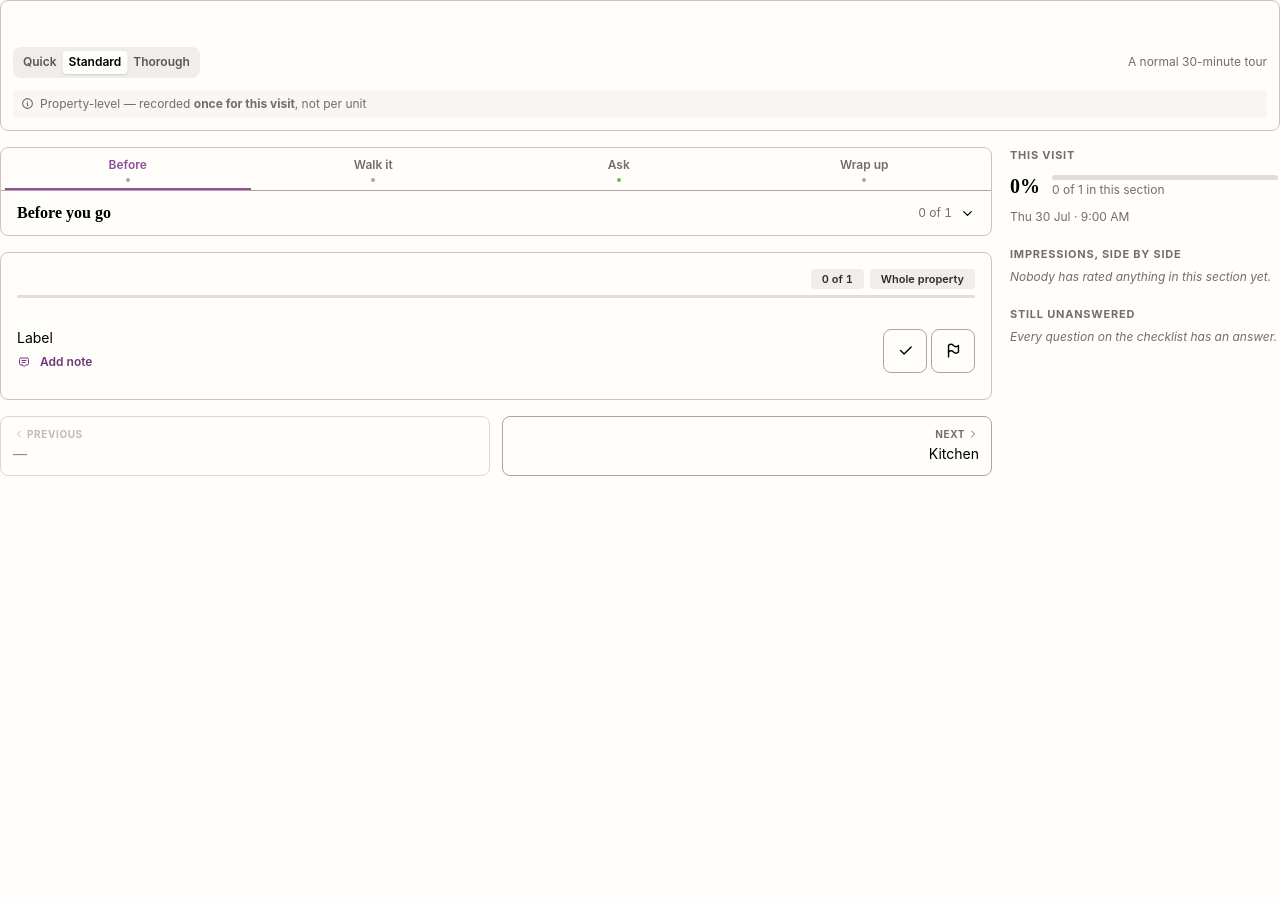
Scenario: the question gate › shows an answered question as asked
Click the button "Before you go 0 of 1": coordinates (64, 212) [13, 191, 979, 235]
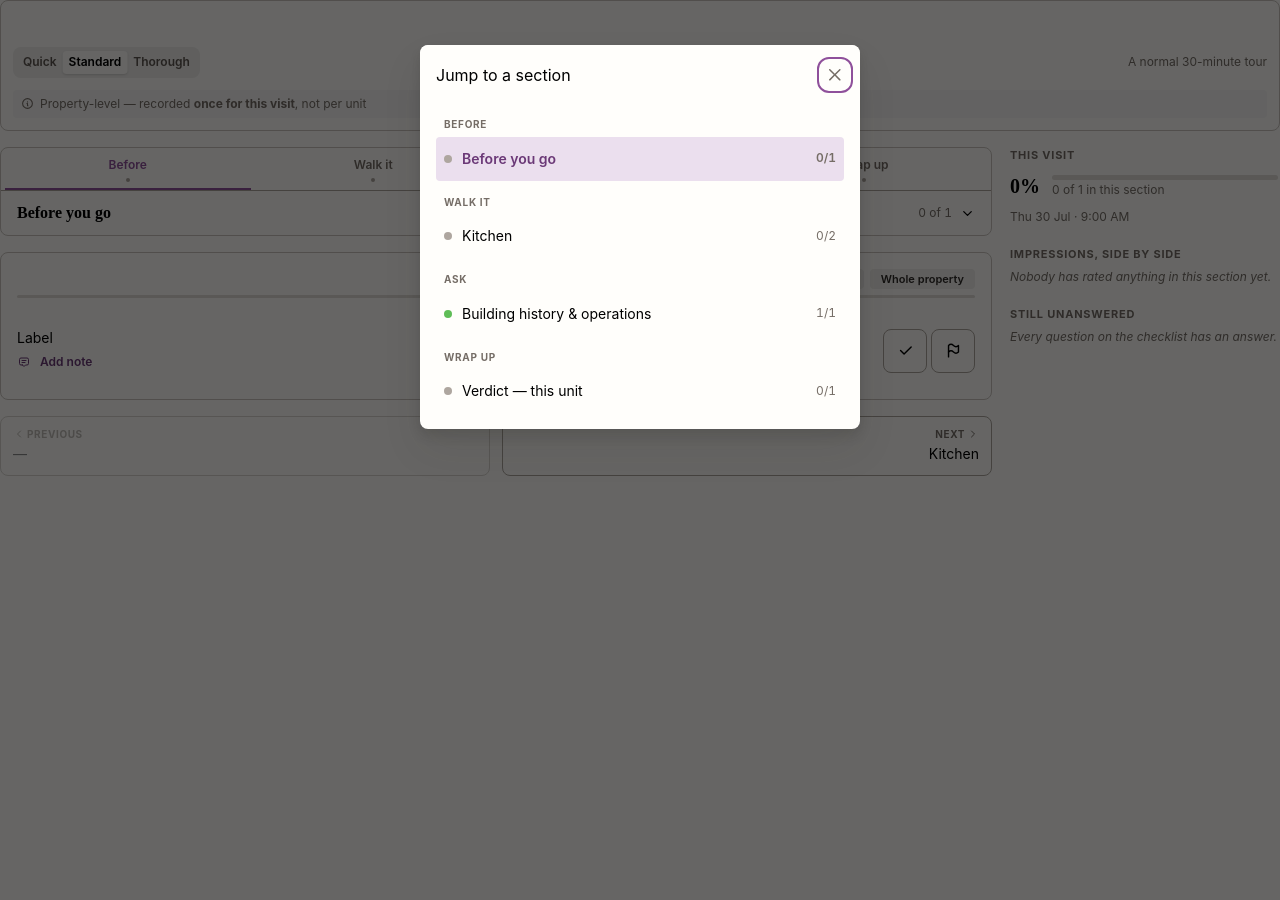
Click the button "Building history & operations 1/1": coordinates (640, 314) [436, 292, 844, 336]
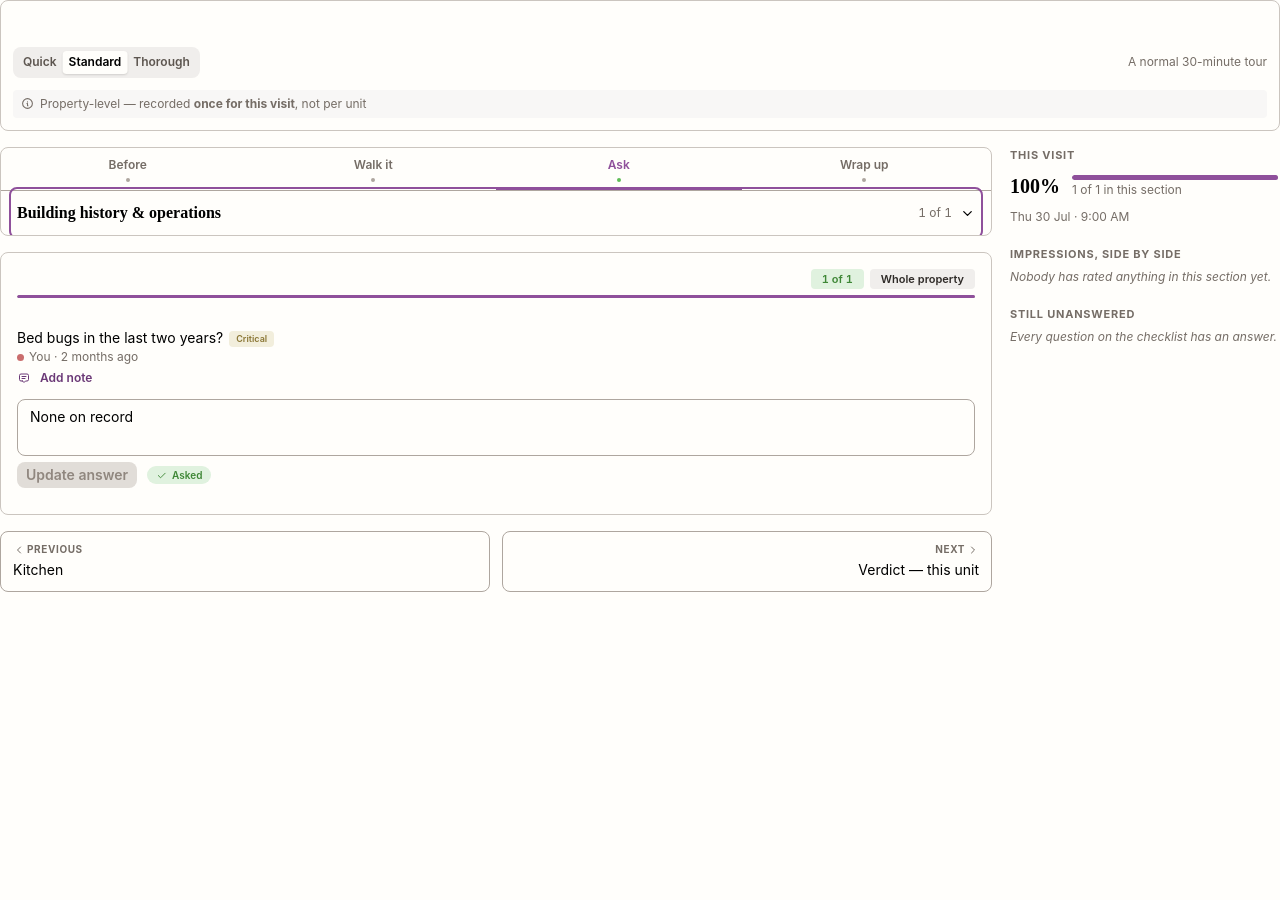
Now the text "Asked" is shown, box [172, 468, 202, 484]
